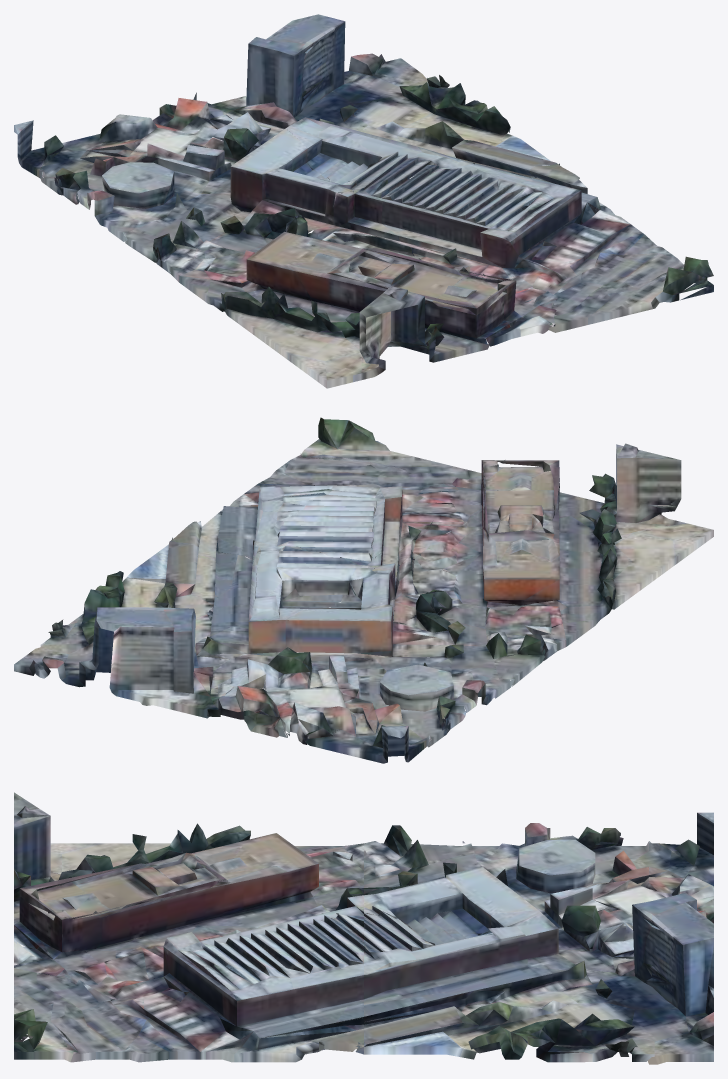
3 renders of one model, top to bottom at view 1: azimuth 30°, elevation 25°; view 2: azimuth 150°, elevation 25°; view 3: azimuth 270°, elevation 25°, orthographic. The views are drawn at different scales.
Parts seen in each view (by area): view 1: 30436272704361627_0; view 2: 30436272704361627_0; view 3: 30436272704361627_0.
Part boxes in pixels (x1,y1,x2,y2): 30436272704361627_0: (14,14,713,388); 30436272704361627_0: (14,417,713,763); 30436272704361627_0: (14,792,713,1064).
Bounding box in the file's own units: 218 × 41.88 × 306.
Materials: 1 (1 with a texture image).
